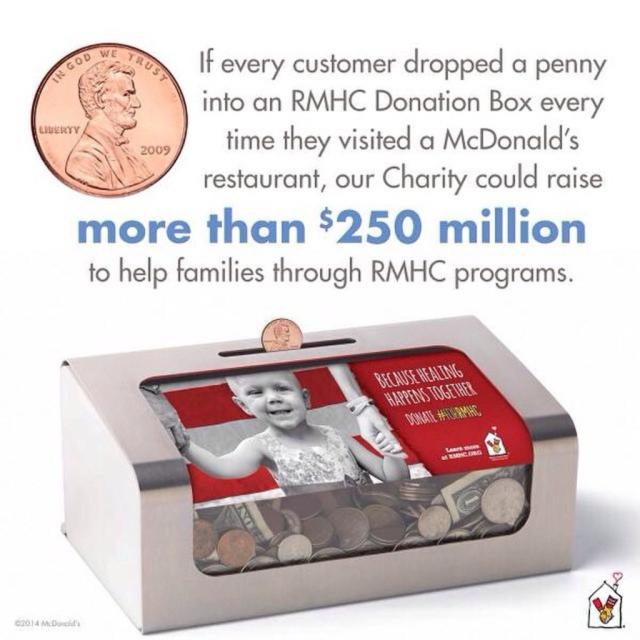Coin: (192, 481, 530, 572), (30, 38, 188, 198), (257, 314, 305, 352)
